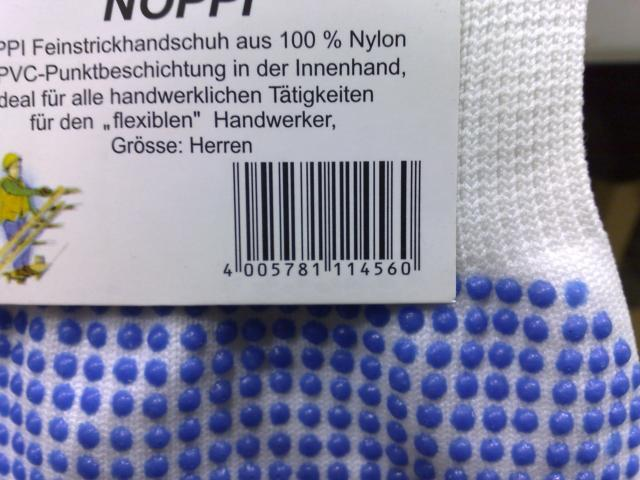Barcode: (220, 157, 432, 283)
